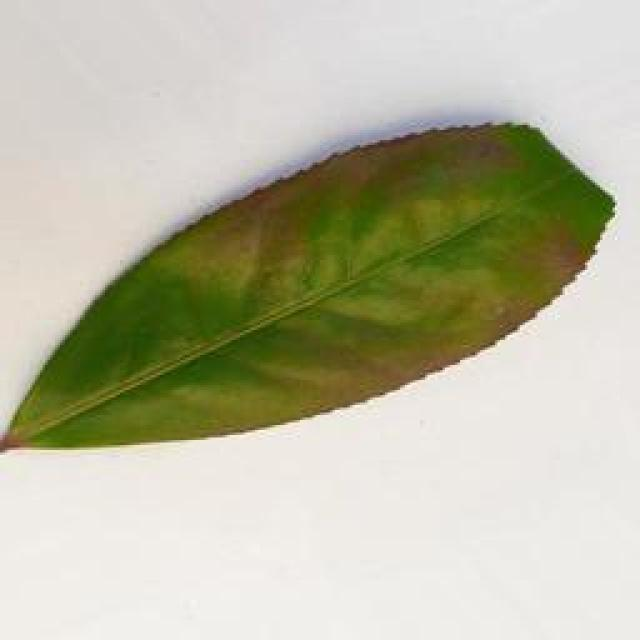Red Leaf Spot: (0, 114, 616, 474)
